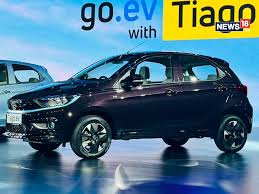Tiago: (6, 51, 255, 162)
